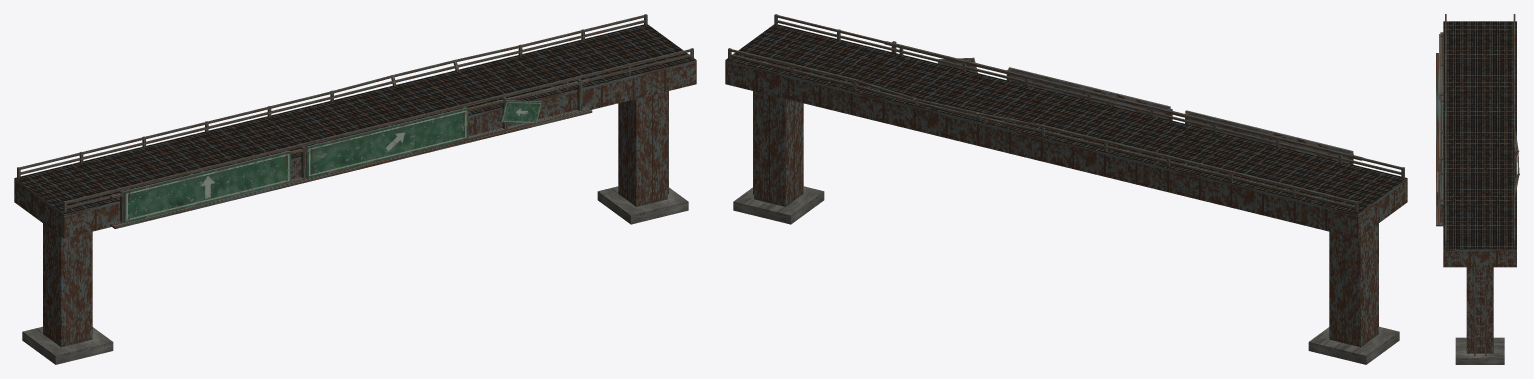
The model's file is Sign_Gantry.fbx.
The picture shows the model from 3 angles, left to right: view 1: azimuth 30°, elevation 25°; view 2: azimuth 150°, elevation 25°; view 3: azimuth 270°, elevation 25°; orthographic projection. The views are drawn at different scales.
Parts seen in each view (by area): view 1: Sign_Gantry; view 2: Sign_Gantry; view 3: Sign_Gantry.
Part boxes in pixels (box(x1,y1,x2,y2)): Sign_Gantry: box(14, 14, 696, 364); Sign_Gantry: box(725, 14, 1407, 364); Sign_Gantry: box(1436, 14, 1519, 364).
Size of the model in its own units: 2200 by 556 by 342.
